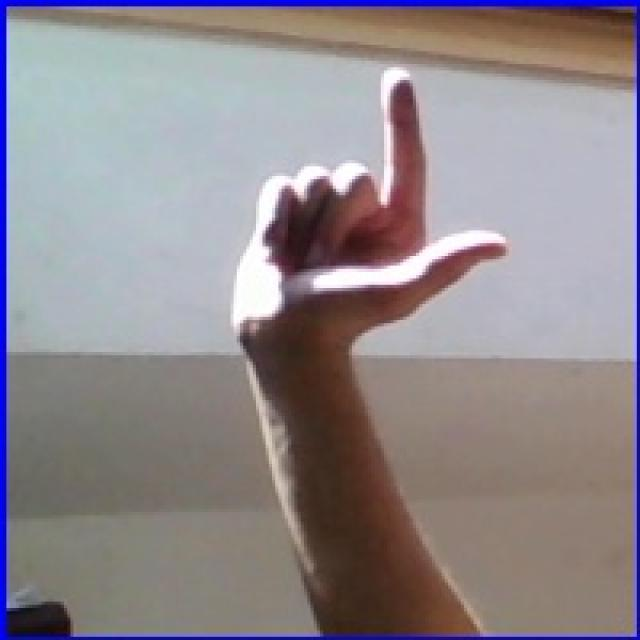Letra L: (191, 50, 528, 412)
